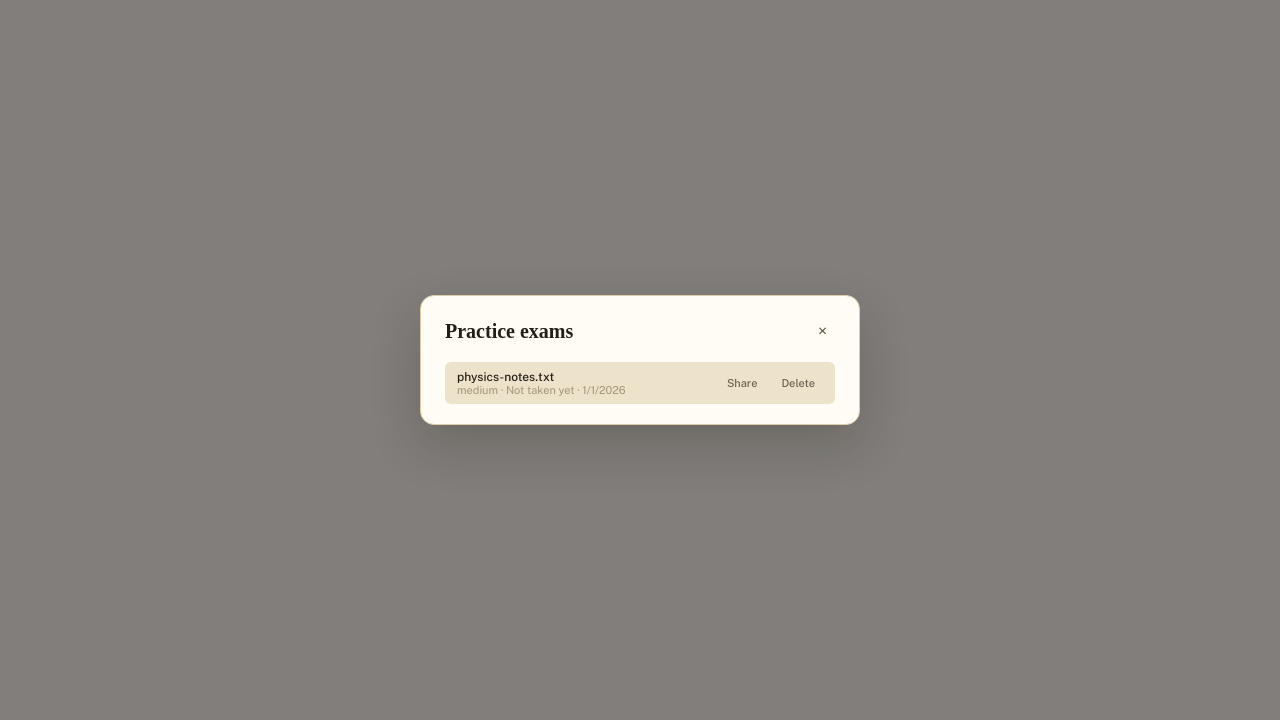
Test: PracticeExamsPanel › share link › mints a public link for one exam and copies its URL
Expected: the text "physics-notes.txt" is shown, [457, 370, 554, 384]
Click the button with aria-label "share exam: physics-notes.txt" at (742, 383), box [719, 373, 765, 393]
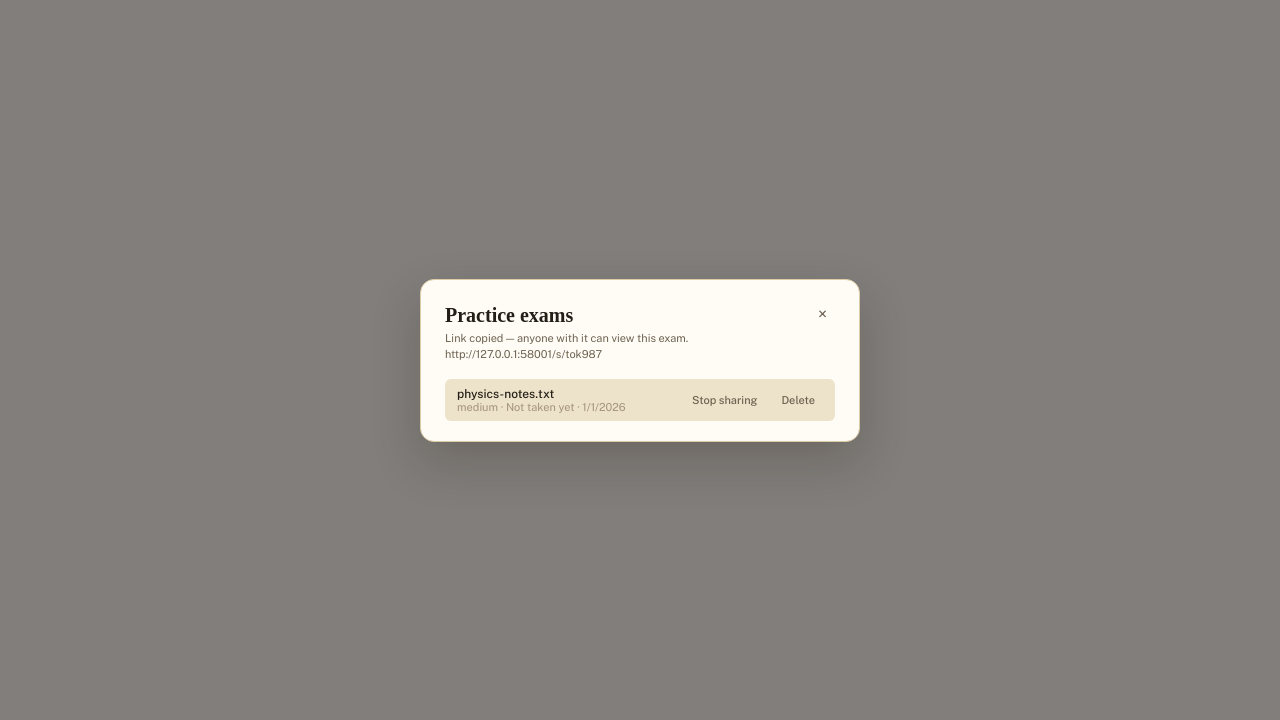
Now the text "anyone with it can view this exam" is shown, box [445, 332, 688, 360]
